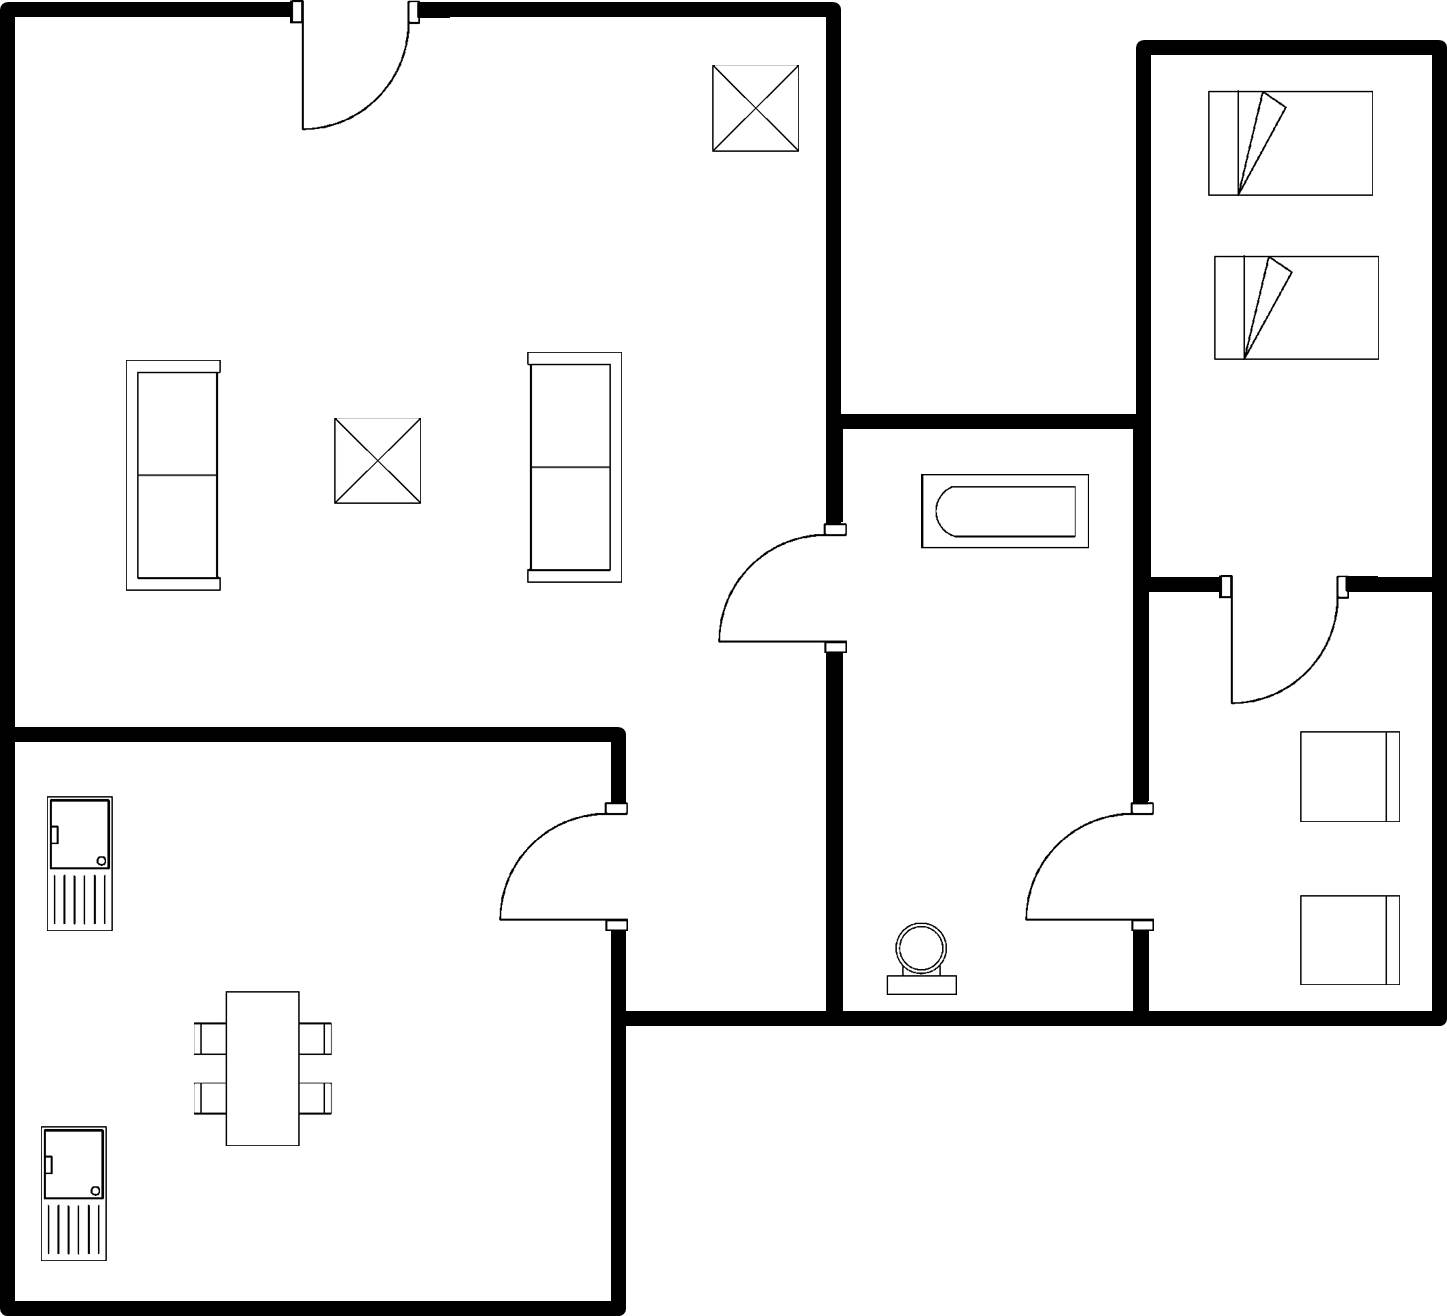bed: (1200, 242, 1389, 373), (1196, 83, 1385, 208)
coffee_table: (322, 408, 434, 517), (700, 54, 811, 163)
dining_table: (182, 983, 345, 1156)
large_sink: (872, 917, 970, 1002)
large_sofa: (114, 350, 231, 606), (518, 343, 634, 588)
sink: (35, 787, 125, 943), (31, 1118, 118, 1272)
small_sofa: (1288, 722, 1412, 840), (1289, 884, 1412, 996)
tub: (911, 465, 1098, 563)
